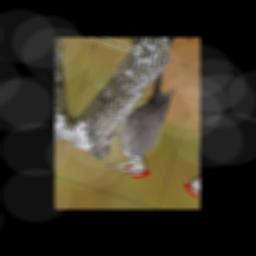Woodpecker: (95, 57, 181, 182)
